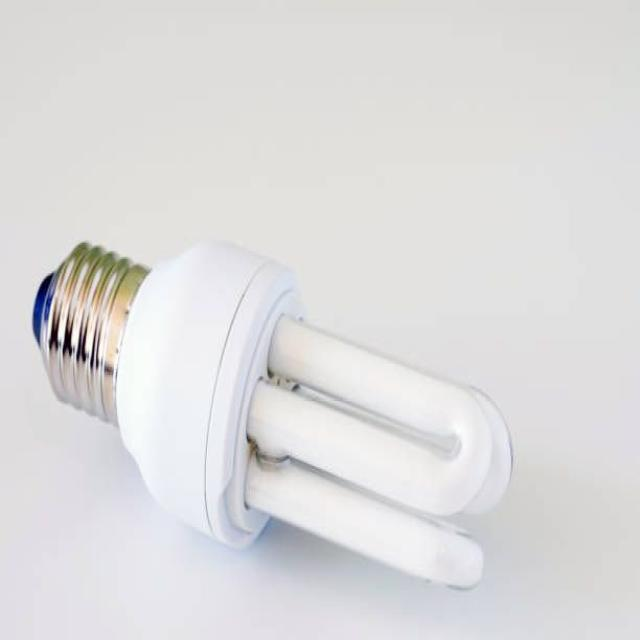electronic: (31, 234, 514, 590)
